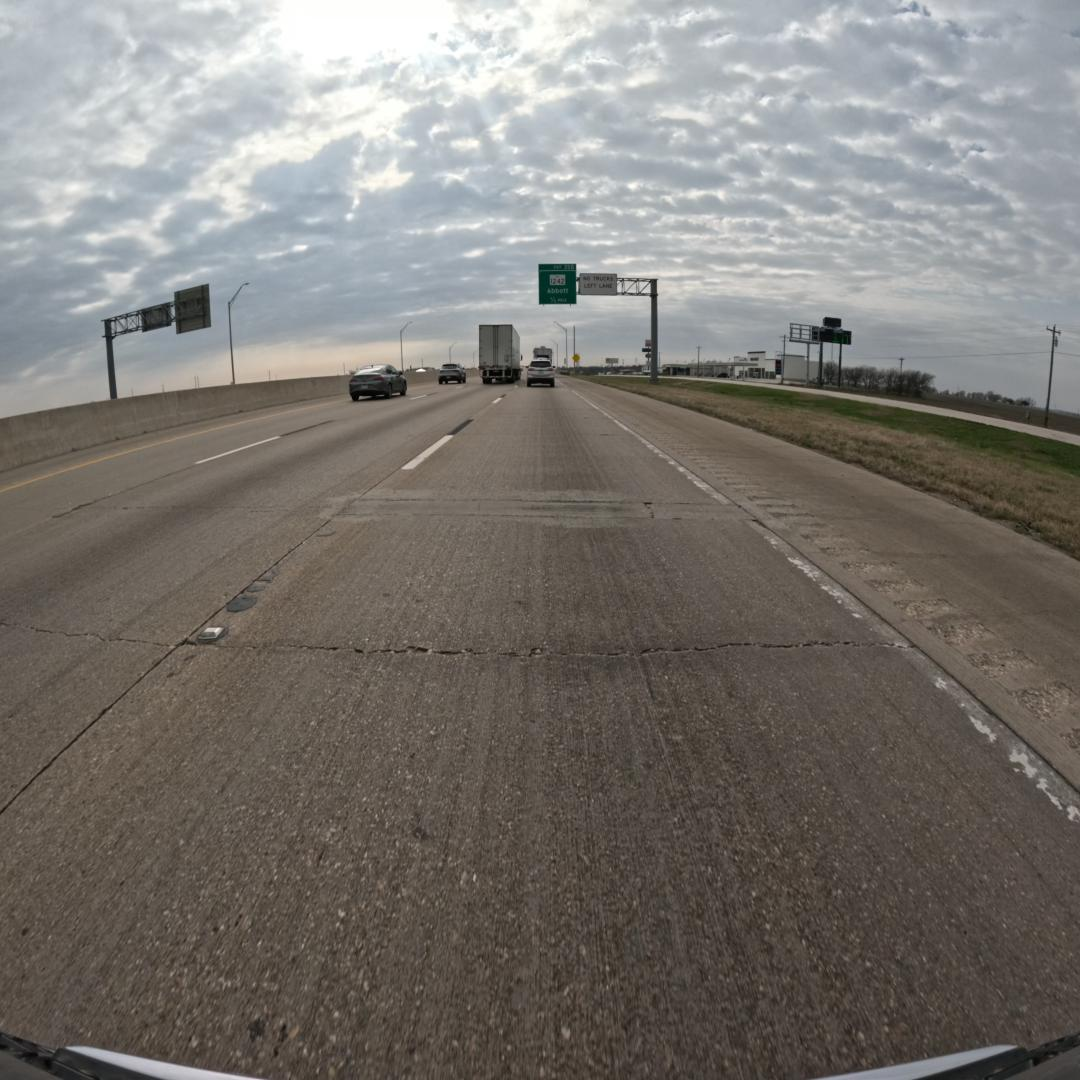lane0: (0, 387, 1080, 1077)
lane1: (0, 384, 514, 812)
